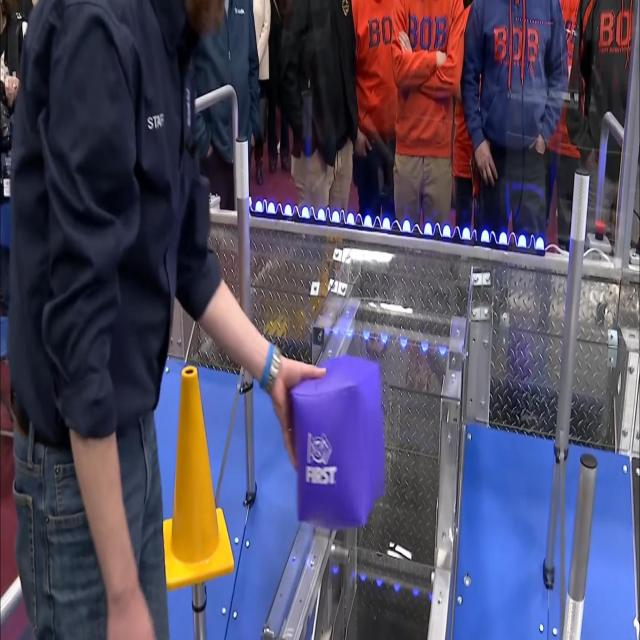frc_cone: (157, 358, 235, 597)
frc_cube: (291, 352, 385, 520)
